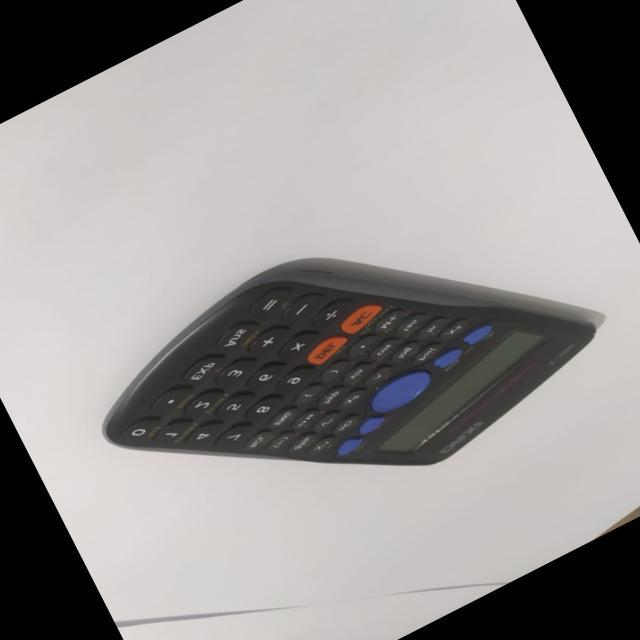Calculator: (72, 146, 620, 594)
